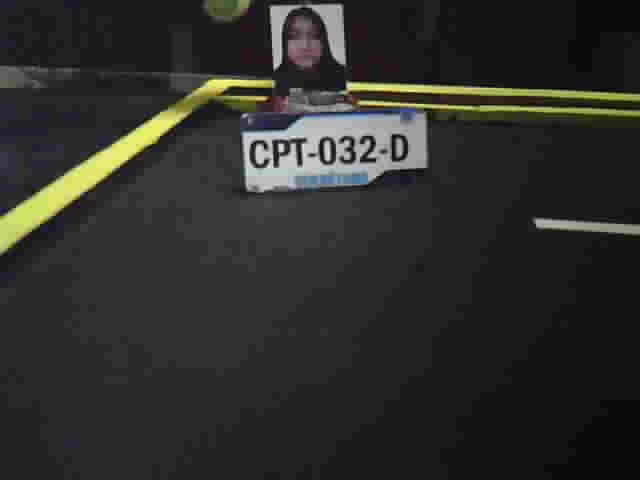PLACA: (237, 105, 430, 196)
ROSTRO: (273, 8, 344, 91)
